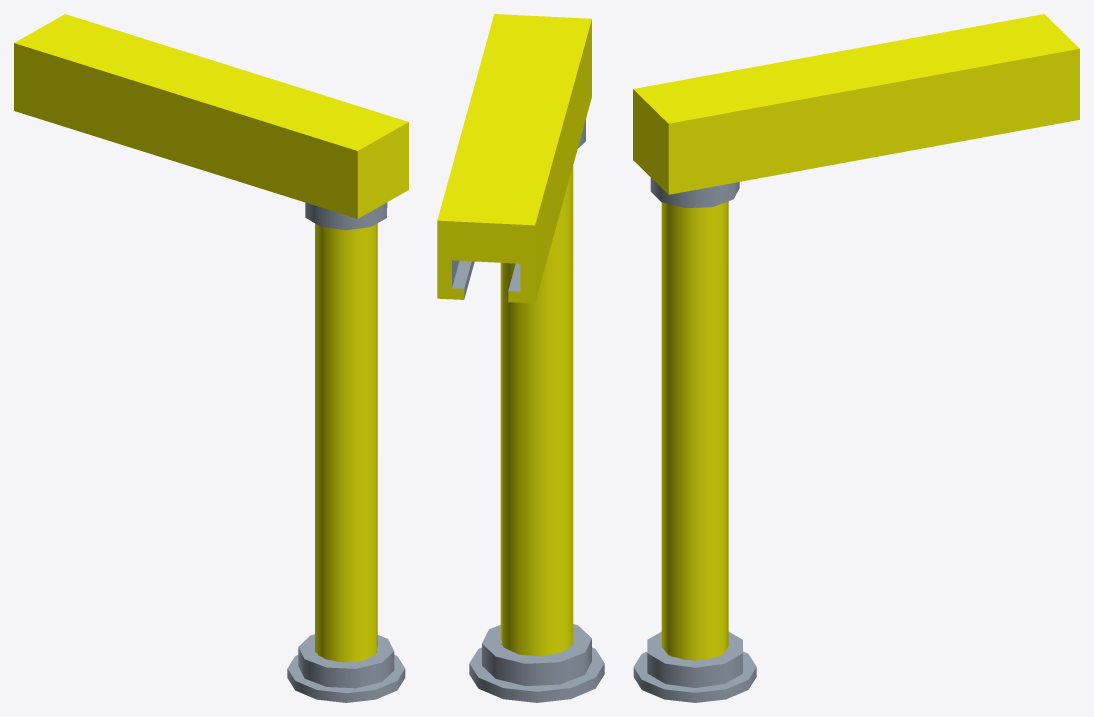
File: crane_model.obj
3 renders of one model, left to right at view 1: azimuth 30°, elevation 25°; view 2: azimuth 150°, elevation 25°; view 3: azimuth 270°, elevation 25°, orthographic. The views are drawn at different scales.
Parts seen in each view (by area): view 1: 36, 15, 11, 1, 13, 9, 37; view 2: 36, 9, 1, 7, 11, 28, 26, 3, 34, 33; view 3: 36, 15, 5, 1, 9, 3, 7, 37.
Boxes of the visible parts, box(x1,y1,x2,y2) form: 36: box(14, 14, 408, 218); 15: box(326, 223, 377, 662); 11: box(315, 224, 342, 662); 1: box(287, 634, 405, 702); 13: box(343, 230, 361, 662); 9: box(315, 223, 324, 658); 37: box(308, 202, 387, 230); 36: box(437, 14, 591, 302); 9: box(501, 200, 572, 656); 1: box(469, 624, 604, 702); 7: box(503, 263, 518, 653); 11: box(563, 165, 573, 643); 28: box(438, 220, 534, 302); 26: box(437, 221, 519, 263); 3: box(500, 263, 503, 645); 34: box(437, 222, 463, 299); 33: box(452, 261, 471, 288); 36: box(633, 14, 1079, 194); 15: box(661, 202, 685, 659); 5: box(685, 207, 706, 660); 1: box(633, 631, 756, 702); 9: box(707, 201, 728, 654); 3: box(706, 207, 721, 659); 7: box(722, 203, 728, 654); 37: box(650, 177, 733, 208).
Bounding box in the file's own units: 11661 × 28500 × 19947.
